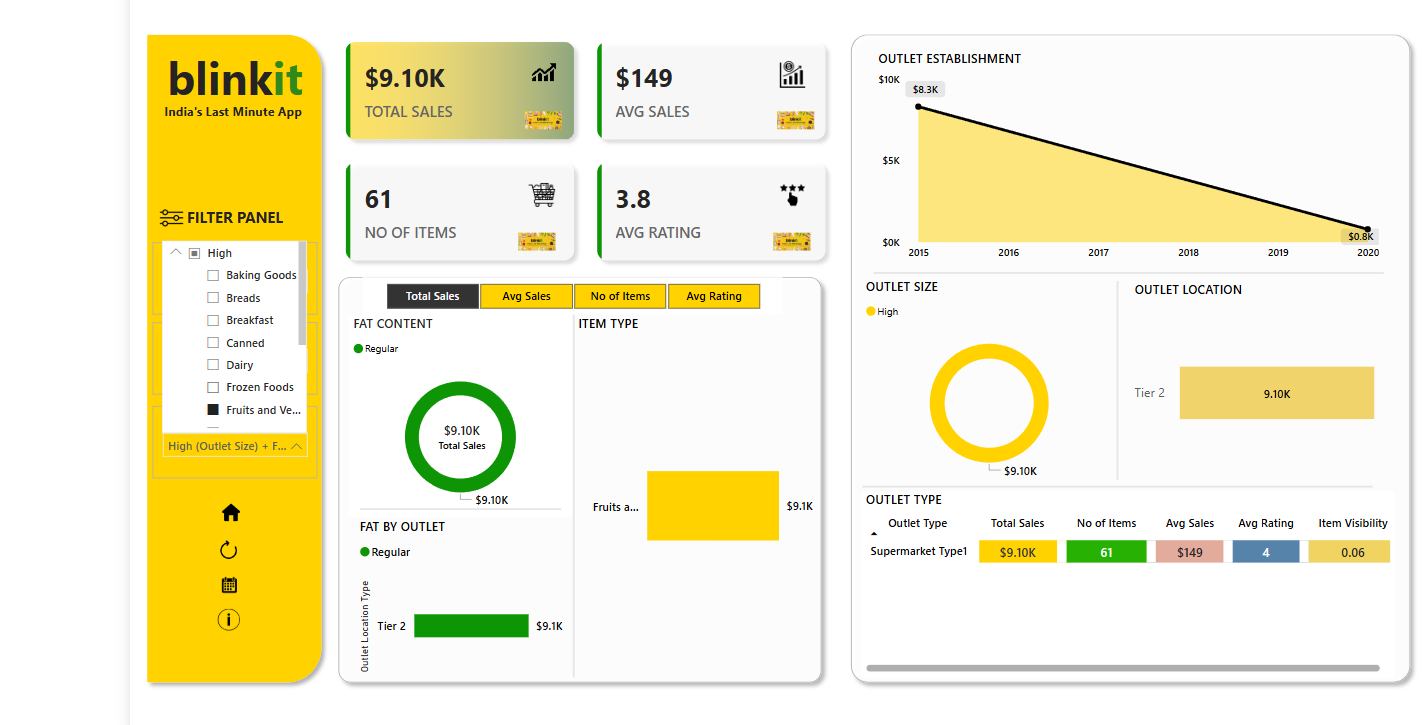

The page's visual inventory and layout, read from the dashboard file:
{"tool":"powerbi","page":{"name":"Page 1","canvas":[1400,800],"ordinal":0},"visuals":[{"type":"textbox","box":[10,290,280,280],"z":0},{"type":"shape","box":[9.4,42.9,205.1,713.1],"z":1000},{"type":"textbox","box":[29.5,60.3,166.2,77.7],"z":2000},{"type":"textbox","box":[20.1,120.6,181,36.2],"z":3000},{"type":"cardVisual","fields":{"Data":["BlinkIT Grocery Data.Total Sales","BlinkIT Grocery Data.Avg Sales","BlinkIT Grocery Data.No of Items","BlinkIT Grocery Data.Avg Rating"]},"box":[214.5,42.9,549.6,269.4],"z":4000},{"type":"shape","box":[214.5,303,536.2,453.1],"z":5000},{"type":"donutChart","title":"FAT CONTENT","fields":{"Y":["BlinkIT Grocery Data.Total Sales"],"Category":["BlinkIT Grocery Data.Item Fat Content"]},"box":[234.6,352.5,239.9,217.2],"z":6000},{"type":"slicer","fields":{"Values":["Metrics.Metrics"]},"box":[249.3,312.3,450.4,40.2],"z":7000},{"type":"clusteredBarChart","title":"FAT BY OUTLET ","fields":{"Y":["BlinkIT Grocery Data.Total Sales"],"Category":["BlinkIT Grocery Data.Outlet Location Type"],"Series":["BlinkIT Grocery Data.Item Fat Content"]},"box":[241.3,569.7,227.9,181],"z":8000},{"type":"shape","box":[246.7,552.3,215.8,17.4],"z":9000},{"type":"shape","box":[462.5,352.5,26.8,388.7],"z":10000},{"type":"barChart","title":"ITEM TYPE","fields":{"Y":["BlinkIT Grocery Data.Total Sales"],"Category":["BlinkIT Grocery Data.Item Type"]},"box":[475.9,352.5,262.7,388.7],"z":11000},{"type":"cardVisual","fields":{"Data":["BlinkIT Grocery Data.Total Sales"]},"box":[312.3,450.4,87.1,60.3],"z":12000},{"type":"shape","box":[764.1,42.9,618,713.1],"z":13000},{"type":"lineChart","title":"OUTLET ESTABLISHMENT ","fields":{"Y":["BlinkIT Grocery Data.Total Sales"],"Category":["BlinkIT Grocery Data.Outlet Establishment Year"]},"box":[797.6,68.4,546.9,234.6],"z":14000},{"type":"shape","box":[797.6,303,546.9,9.4],"z":15000},{"type":"donutChart","title":"OUTLET SIZE","fields":{"Y":["BlinkIT Grocery Data.Total Sales"],"Category":["BlinkIT Grocery Data.Outlet Size"]},"box":[784.2,312.3,274.8,225.2],"z":16000},{"type":"shape","box":[1045.6,316.4,26.8,213.1],"z":17000},{"type":"funnel","title":" OUTLET LOCATION","fields":{"Category":["BlinkIT Grocery Data.Outlet Location Type"],"Y":["Sum(BlinkIT Grocery Data.Sales)"]},"box":[1072.4,316.4,272.1,221.2],"z":18000},{"type":"shape","box":[785.5,532.2,546.9,9.4],"z":19000},{"type":"pivotTable","title":"OUTLET TYPE","fields":{"Rows":["BlinkIT Grocery Data.Outlet Type"],"Values":["BlinkIT Grocery Data.Total Sales","BlinkIT Grocery Data.No of Items","BlinkIT Grocery Data.Avg Sales","BlinkIT Grocery Data.Avg Rating","Avg(BlinkIT Grocery Data.Item Visibility)"]},"box":[784.2,541.6,572.4,199.7],"z":20000},{"type":"slicer","fields":{"Values":["BlinkIT Grocery Data.Outlet Location Type"]},"box":[24.1,274.8,176.9,77.7],"z":21000},{"type":"slicer","fields":{"Values":["BlinkIT Grocery Data.Outlet Size"]},"box":[24.1,360.6,176.9,77.7],"z":22000},{"type":"slicer","fields":{"Values":["BlinkIT Grocery Data.Outlet Size","BlinkIT Grocery Data.Item Type"]},"box":[24.1,450.4,176.9,77.7],"z":23000},{"type":"textbox","box":[29.5,231.9,166.2,32.2],"z":24000},{"type":"image","box":[24.4,200.6,40.7,94.9],"z":25000},{"type":"image","box":[80,542.2,55.6,46.1],"z":26000},{"type":"image","box":[85.4,588.3,39.3,32.5],"z":27000},{"type":"image","box":[77.3,620.8,58.3,43.4],"z":28000},{"type":"image","box":[88.1,660.1,35.2,39.3],"z":29000},{"type":"image","box":[412.1,245.4,50.2,56.9],"z":30000},{"type":"image","box":[684.5,245.4,50.2,56.9],"z":31000},{"type":"image","box":[418.9,115.2,50.2,56.9],"z":32000},{"type":"image","box":[688.6,115.2,50.2,56.9],"z":33000}]}

Visuals, with their boxes in screenshot pixels (x1, y1, x2, y2):
textbox: (179,263,430,514)
shape: (179,42,362,680)
textbox: (197,58,345,127)
textbox: (188,112,350,144)
cardVisual - BlinkIT Grocery Data.Total Sales x BlinkIT Grocery Data.Avg Sales: (362,42,854,283)
shape: (362,275,842,680)
"FAT CONTENT" donutChart: (380,319,595,513)
slicer - Metrics.Metrics: (393,283,796,319)
"FAT BY OUTLET " clusteredBarChart: (386,513,590,675)
shape: (391,498,584,513)
shape: (584,319,608,667)
"ITEM TYPE" barChart: (596,319,831,667)
cardVisual - BlinkIT Grocery Data.Total Sales: (450,407,528,461)
shape: (854,42,1407,680)
"OUTLET ESTABLISHMENT " lineChart: (884,65,1373,275)
shape: (884,275,1373,283)
"OUTLET SIZE" donutChart: (872,283,1118,485)
shape: (1106,287,1130,477)
" OUTLET LOCATION" funnel: (1130,287,1373,485)
shape: (873,480,1362,488)
"OUTLET TYPE" pivotTable: (872,488,1384,667)
slicer - BlinkIT Grocery Data.Outlet Location Type: (192,250,350,319)
slicer - BlinkIT Grocery Data.Outlet Size: (192,326,350,396)
slicer - BlinkIT Grocery Data.Outlet Size x BlinkIT Grocery Data.Item Type: (192,407,350,476)
textbox: (197,211,345,240)
image: (192,183,229,268)
image: (242,489,292,530)
image: (247,530,282,559)
image: (240,559,292,598)
image: (249,594,281,629)
image: (539,223,584,274)
image: (783,223,828,274)
image: (545,107,590,158)
image: (786,107,831,158)
